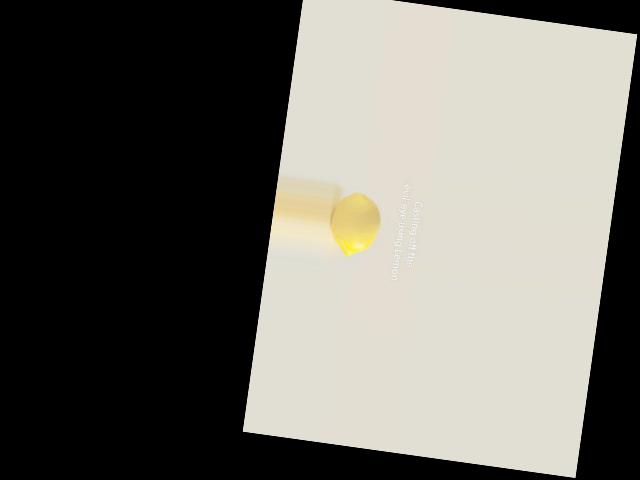lemon: (327, 183, 389, 269)
